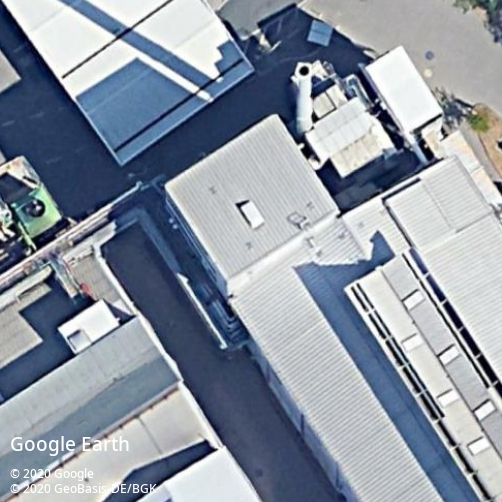Vent: (27, 198, 46, 218)
